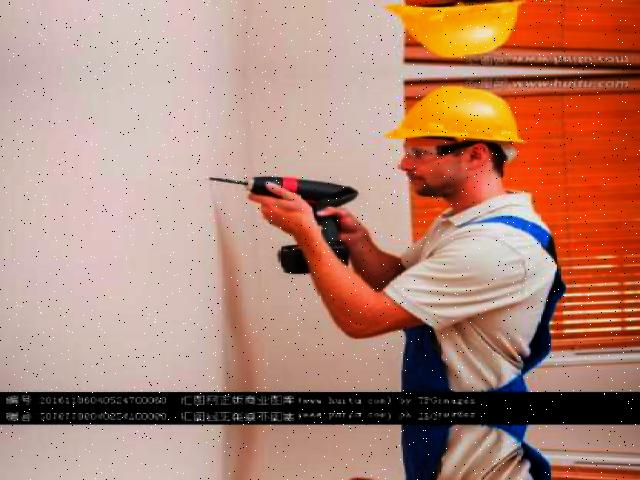Helmet: (379, 80, 531, 154)
